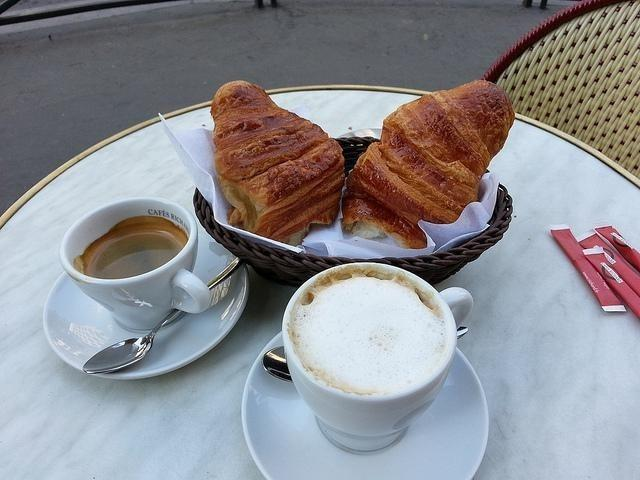cup-handle: (281, 261, 473, 455), (60, 198, 213, 333)
